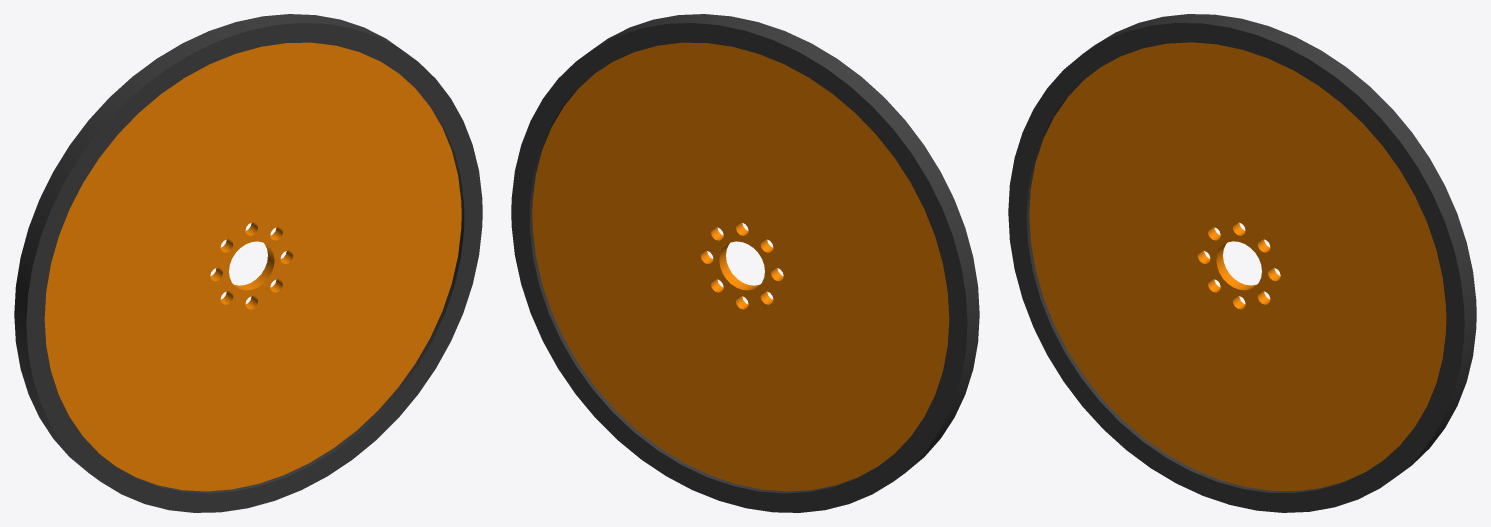
Rendered from ROB-12422.obj.
The picture shows the model from 3 angles, left to right: view 1: azimuth 30°, elevation 25°; view 2: azimuth 150°, elevation 25°; view 3: azimuth 330°, elevation 25°; orthographic projection.
Visible parts, largest first — view 1: mesh 2 Boss-Extrude1, mesh 1 RO; view 2: mesh 2 Boss-Extrude1, mesh 1 RO; view 3: mesh 2 Boss-Extrude1, mesh 1 RO.
Part boxes in pixels (left/top/right/bottom): mesh 2 Boss-Extrude1: left=44, top=42, right=461, bottom=491; mesh 1 RO: left=14, top=14, right=482, bottom=512; mesh 2 Boss-Extrude1: left=532, top=42, right=949, bottom=491; mesh 1 RO: left=511, top=14, right=979, bottom=512; mesh 2 Boss-Extrude1: left=1029, top=42, right=1446, bottom=490; mesh 1 RO: left=1008, top=14, right=1476, bottom=512.
Bounding box in the file's own units: 0.127 × 0.1269 × 0.00584.
